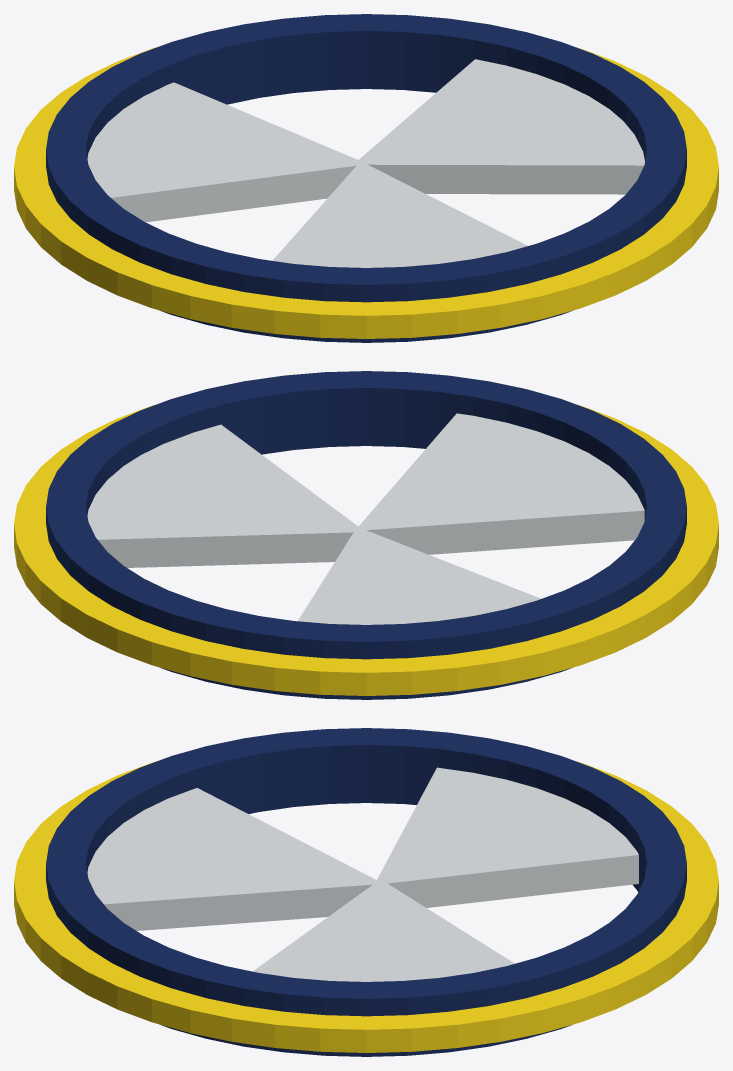
File: Fan.obj
3 renders of one model, top to bottom at view 1: azimuth 30°, elevation 25°; view 2: azimuth 150°, elevation 25°; view 3: azimuth 270°, elevation 25°, orthographic.
Visible parts, largest first — view 1: Fan; view 2: Fan; view 3: Fan.
Boxes of the visible parts, bbox=[...] form: Fan: bbox=[14, 14, 718, 342]; Fan: bbox=[14, 371, 718, 699]; Fan: bbox=[14, 728, 718, 1056].
Size of the model in its own units: 6.6 by 0.6 by 6.6.
